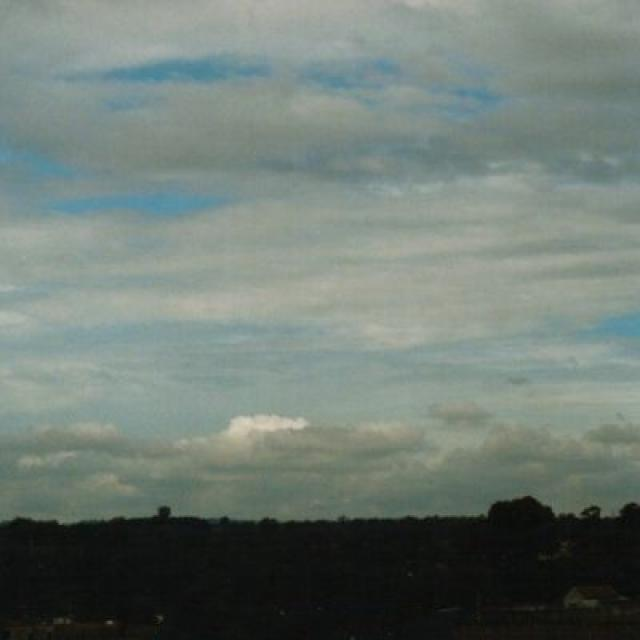Sc: (1, 29, 640, 471)
